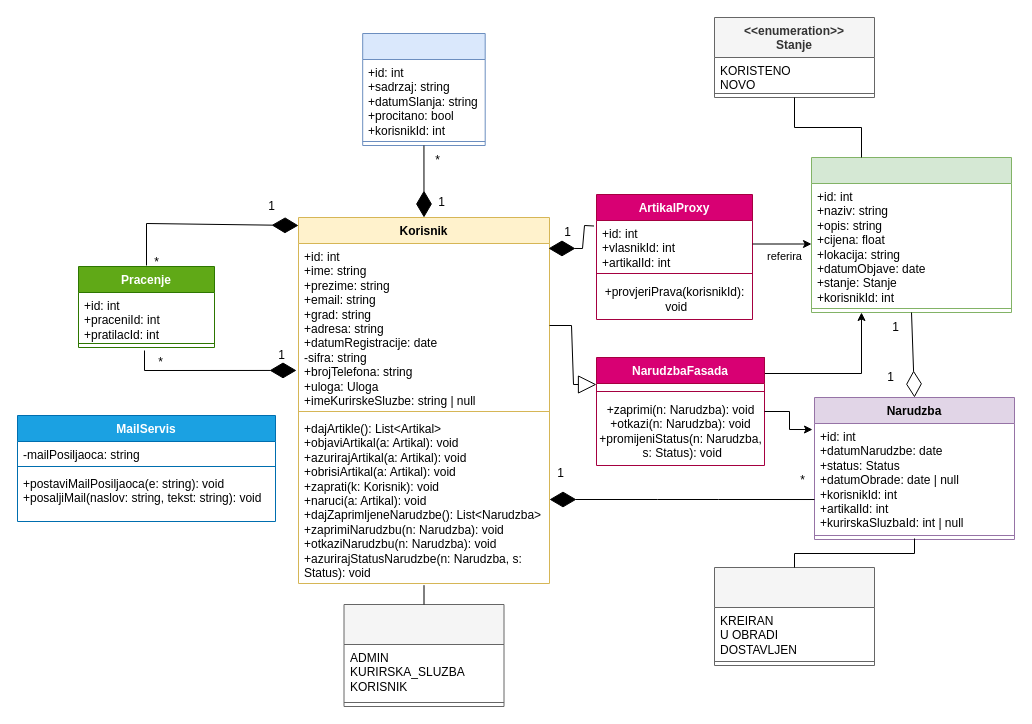
This 1032x724 diagram has some shape labels left out. The box of each missing label's shape, as (x1, y1, x2, y2) in pixels:
<<enumeration>> Status: (714, 566, 874, 666)
<<enumeration>> Uloga: (343, 604, 504, 706)
Artikal: (810, 156, 1012, 312)
Notifikacija: (362, 32, 485, 146)
